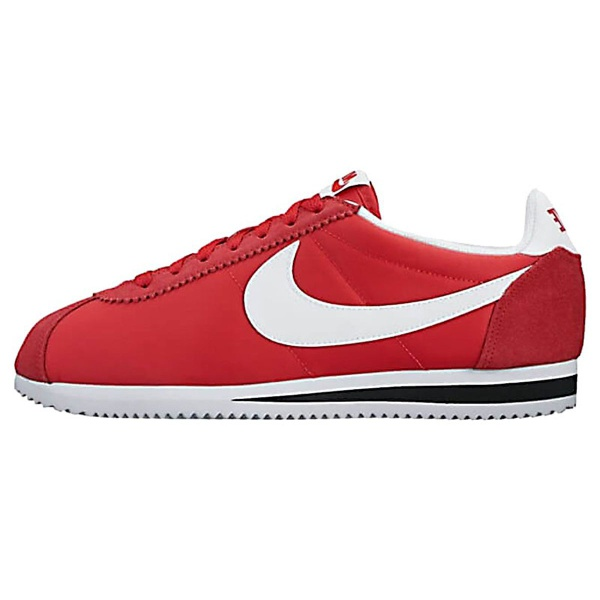nike: (241, 234, 539, 363)
